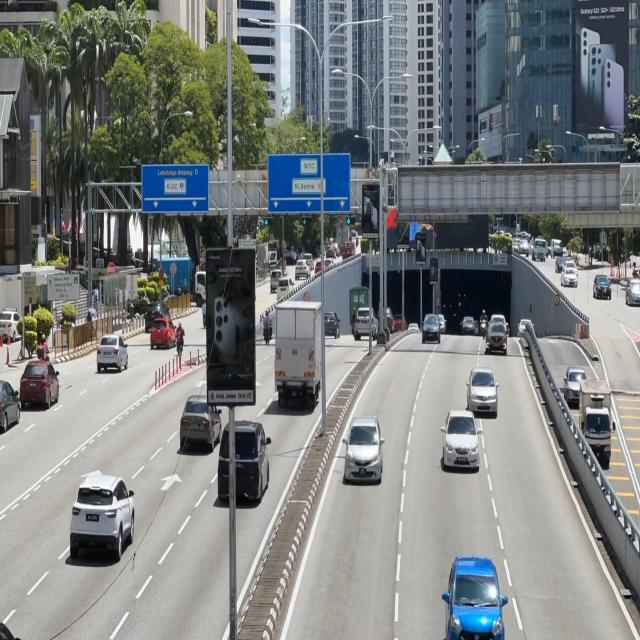Car: (71, 463, 136, 565), (443, 548, 506, 640), (274, 300, 323, 412), (220, 418, 271, 504), (342, 417, 384, 485), (581, 380, 615, 460), (443, 403, 478, 477), (182, 392, 222, 454), (21, 356, 61, 416), (465, 363, 503, 417), (97, 331, 131, 379), (564, 358, 592, 408), (150, 318, 176, 351), (482, 325, 509, 355), (357, 305, 378, 343), (421, 311, 442, 347), (592, 270, 612, 304), (561, 266, 579, 290)
